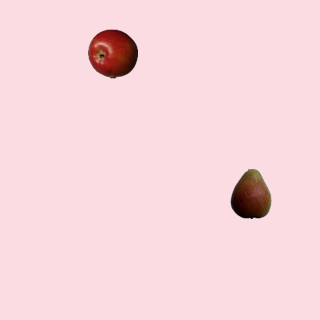Apple Braeburn: (87, 28, 137, 78)
Pear Forelle: (225, 168, 275, 218)
